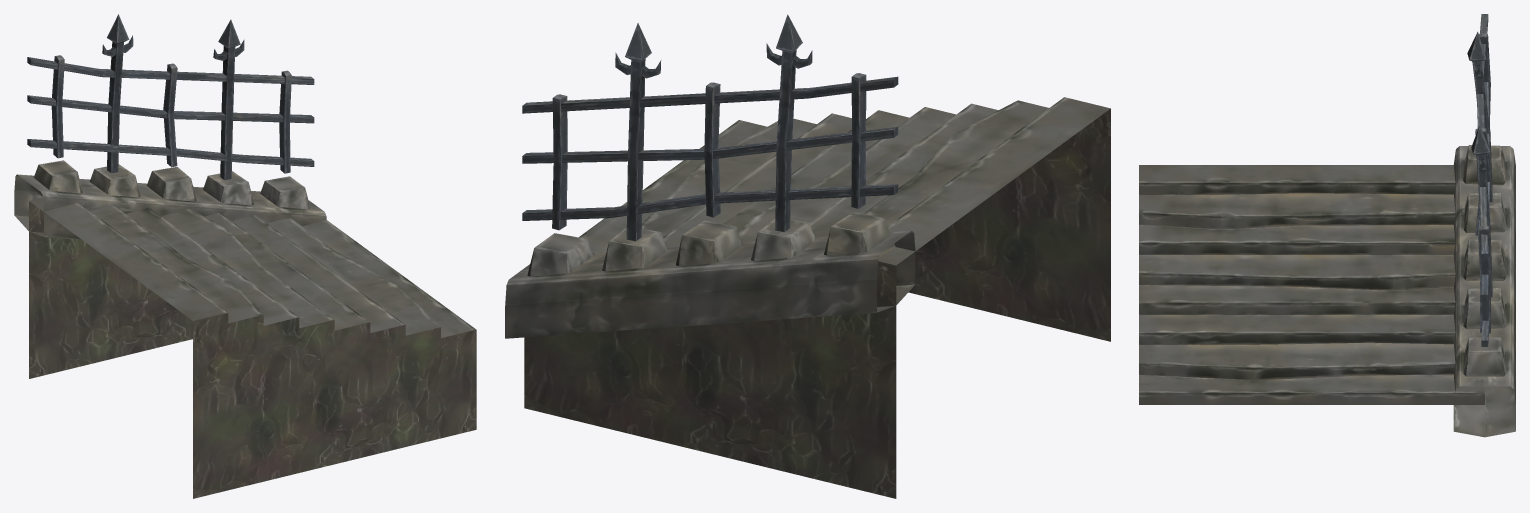
Rendered from Stairs_high_handrail_right.obj.
The picture shows the model from 3 angles, left to right: view 1: azimuth 30°, elevation 25°; view 2: azimuth 150°, elevation 25°; view 3: azimuth 270°, elevation 25°; orthographic projection. The views are drawn at different scales.
Visible parts, largest first — view 1: Stairs_high_handrail_right; view 2: Stairs_high_handrail_right; view 3: Stairs_high_handrail_right.
Part boxes in pixels (box(x1,y1,x2,y2)): Stairs_high_handrail_right: box(14, 14, 476, 498); Stairs_high_handrail_right: box(505, 14, 1110, 498); Stairs_high_handrail_right: box(1139, 14, 1515, 437).
Size of the model in its own units: 10 by 11.68 by 10.9.
